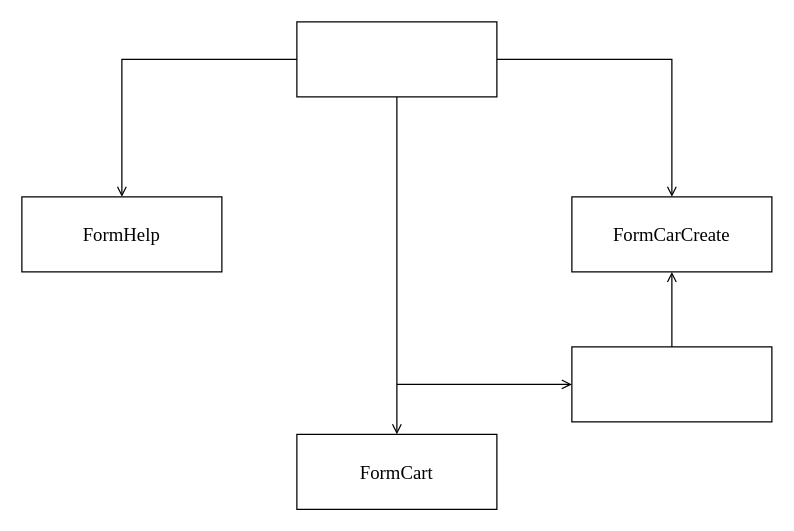
This 794x531 diagram has some shape labels left out. The shapes that lost their labels are listed below. From the top down, each one's centre as x and y in pixels, then its label:
the point at 396,59: FormMain
the point at 671,384: FormFavs
